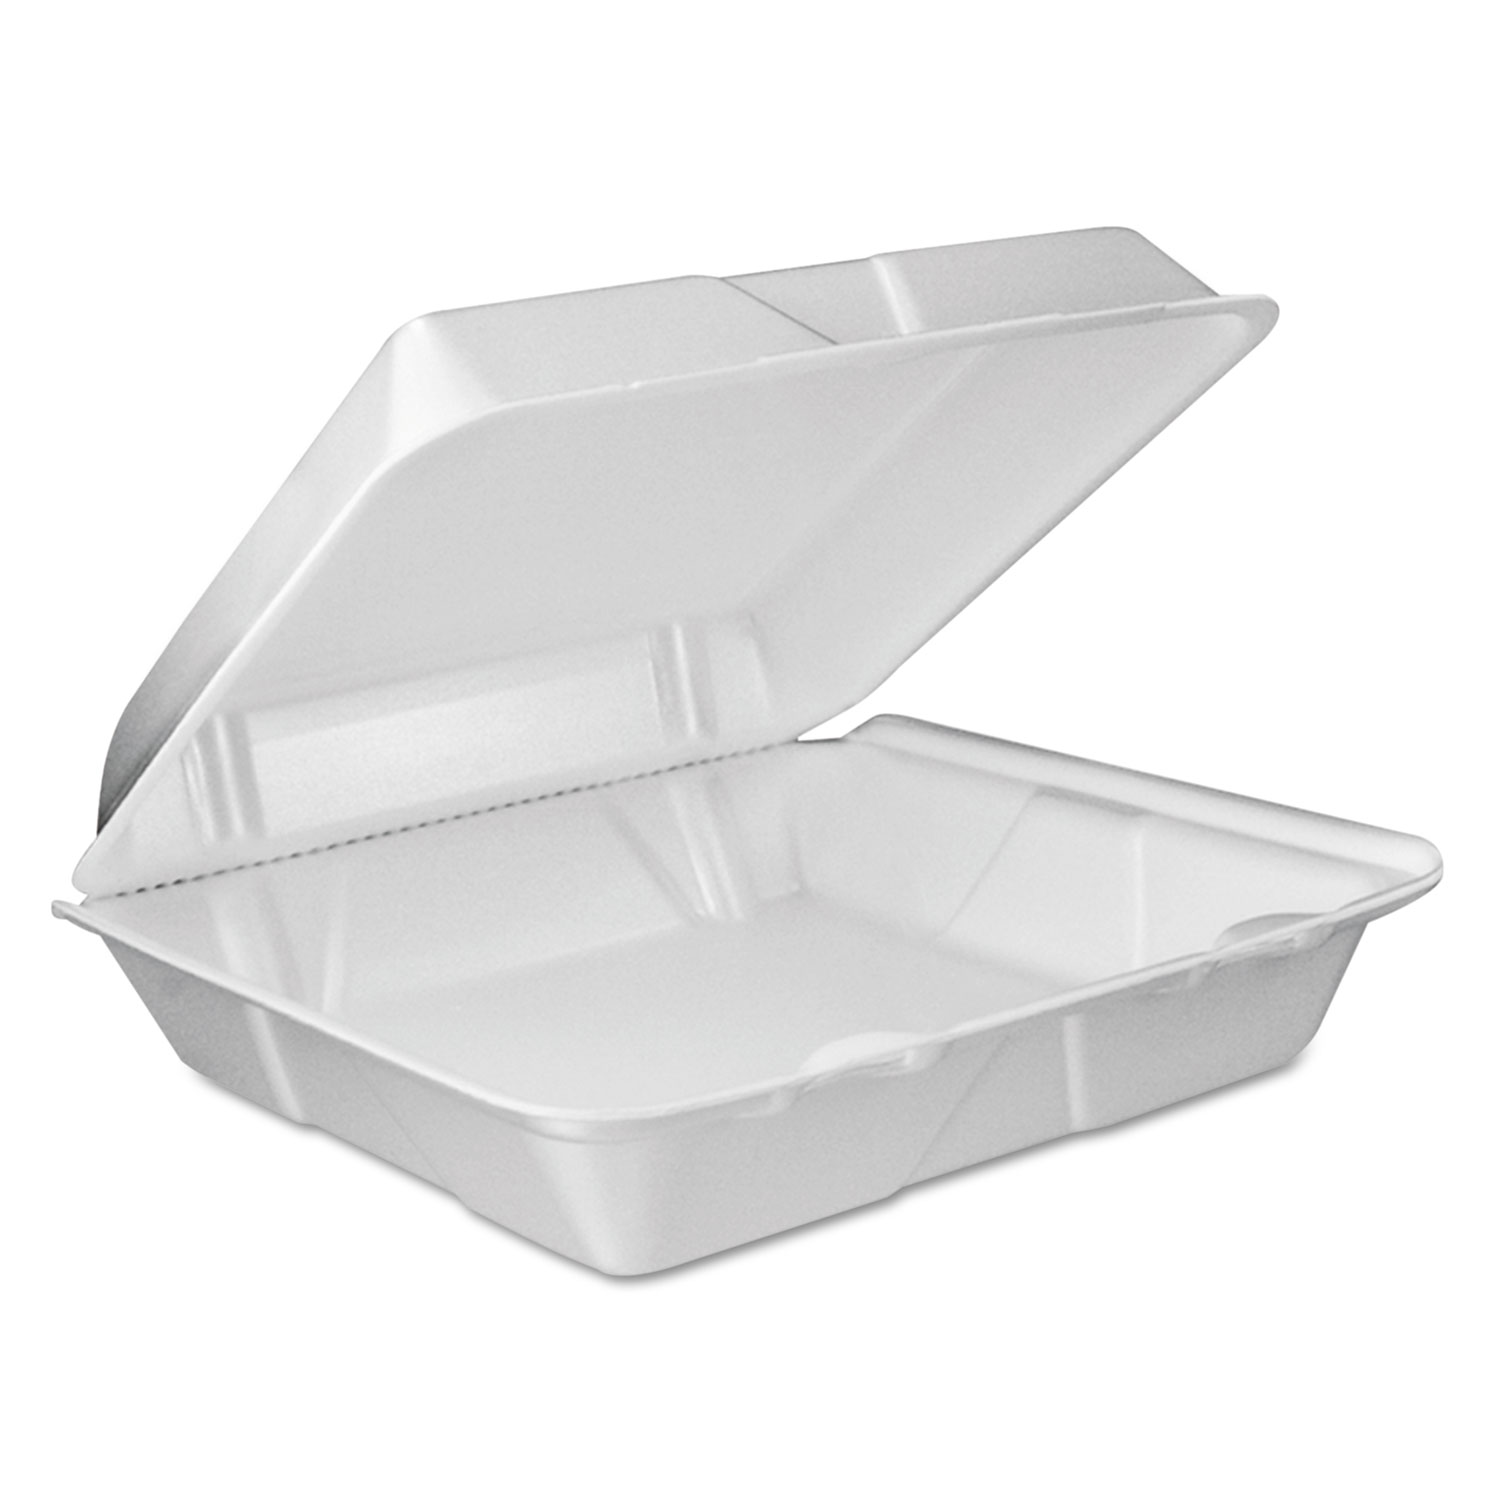styrofoam: (49, 224, 1457, 1298)
